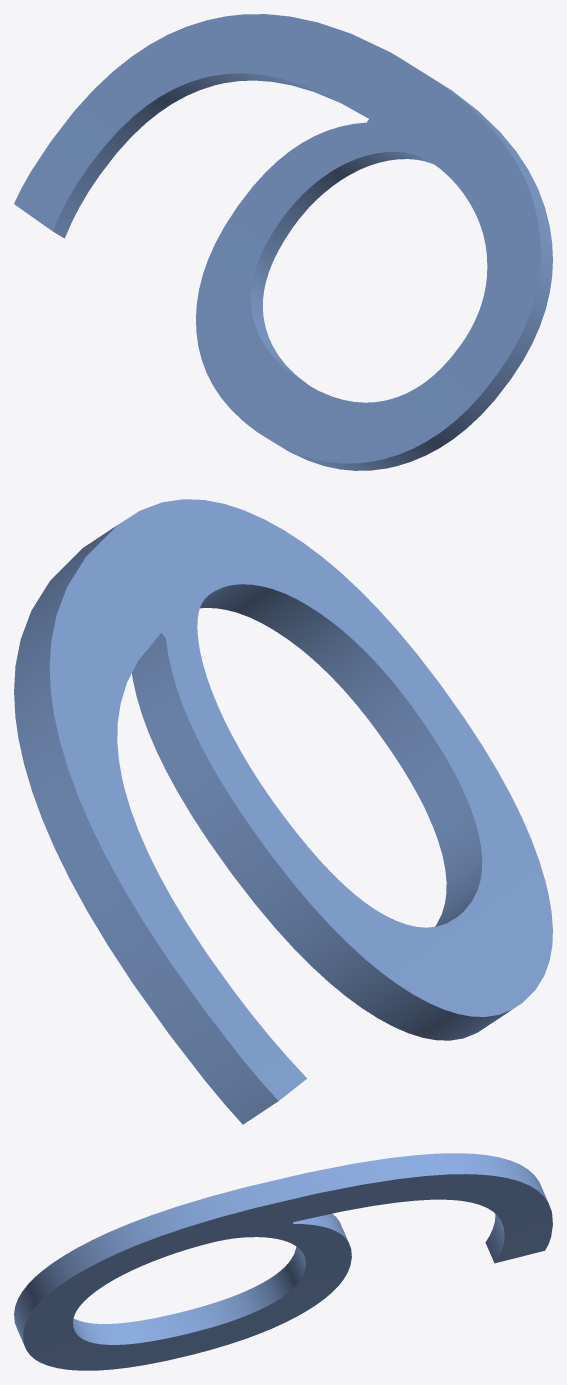
File: New_Number_6.gltf
3 renders of one model, top to bottom at view 1: azimuth 30°, elevation 25°; view 2: azimuth 150°, elevation 25°; view 3: azimuth 270°, elevation 25°, orthographic. The views are drawn at different scales.
Parts seen in each view (by area): view 1: Part 600; view 2: Part 600; view 3: Part 600.
Part boxes in pixels (box(x1,y1,x2,y2)): Part 600: box(14, 14, 552, 470); Part 600: box(14, 499, 552, 1124); Part 600: box(14, 1153, 552, 1370).
Size of the model in its own units: 0.0031 by 0.00307 by 0.00555.
